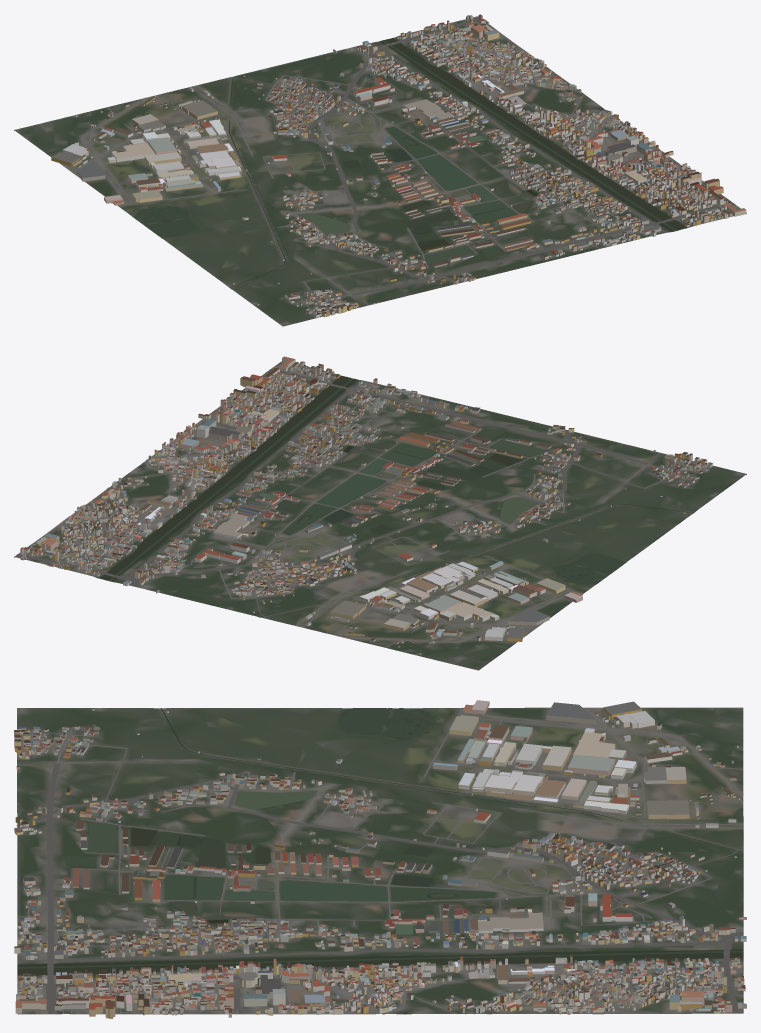
3 renders of one model, top to bottom at view 1: azimuth 30°, elevation 25°; view 2: azimuth 150°, elevation 25°; view 3: azimuth 270°, elevation 25°, orthographic. The views are drawn at different scales.
Parts seen in each view (by area): view 1: ground, buildings, water, roads; view 2: ground, buildings, water, roads; view 3: ground, buildings, water, roads.
Boxes of the visible parts, x1=… form: ground: x1=14, y1=16, x2=746, y2=326; buildings: x1=51, y1=14, x2=746, y2=317; water: x1=134, y1=38, x2=686, y2=287; roads: x1=62, y1=18, x2=739, y2=313; ground: x1=14, y1=361, x2=746, y2=670; buildings: x1=20, y1=356, x2=716, y2=654; water: x1=100, y1=375, x2=693, y2=617; roads: x1=16, y1=365, x2=702, y2=647; ground: x1=17, y1=707, x2=743, y2=1014; buildings: x1=14, y1=700, x2=746, y2=1018; water: x1=17, y1=708, x2=743, y2=1013; roads: x1=16, y1=707, x2=743, y2=1014.
Bounding box in the file's own units: 1437 × 32.98 × 1415.
